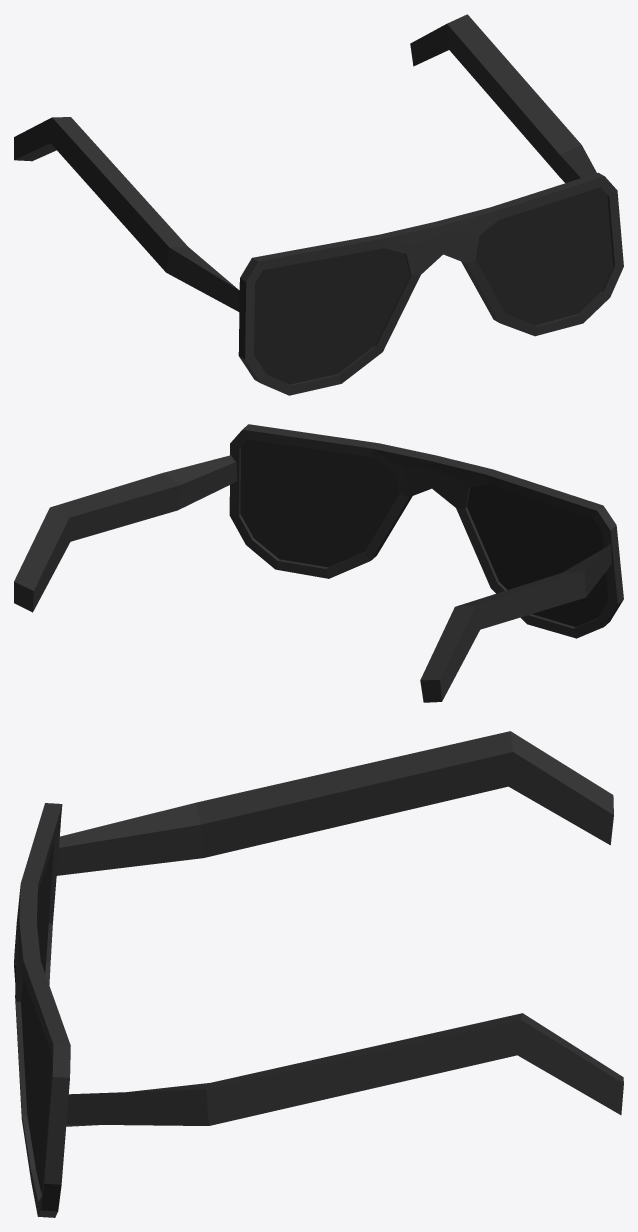
The model's file is Beachgoer_M_Glasses.fbx.
3 views of the same model, one above another, from view 1: azimuth 30°, elevation 25°; view 2: azimuth 150°, elevation 25°; view 3: azimuth 270°, elevation 25° (orthographic). The views are drawn at different scales.
Parts seen in each view (by area): view 1: Beachgoer_M_Glasses; view 2: Beachgoer_M_Glasses; view 3: Beachgoer_M_Glasses.
Boxes of the visible parts, x1=… form: Beachgoer_M_Glasses: x1=14, y1=14, x2=623, y2=395; Beachgoer_M_Glasses: x1=14, y1=424, x2=623, y2=702; Beachgoer_M_Glasses: x1=14, y1=731, x2=623, y2=1217.
Bounding box in the file's own units: 17.46 × 6.72 × 15.48.
